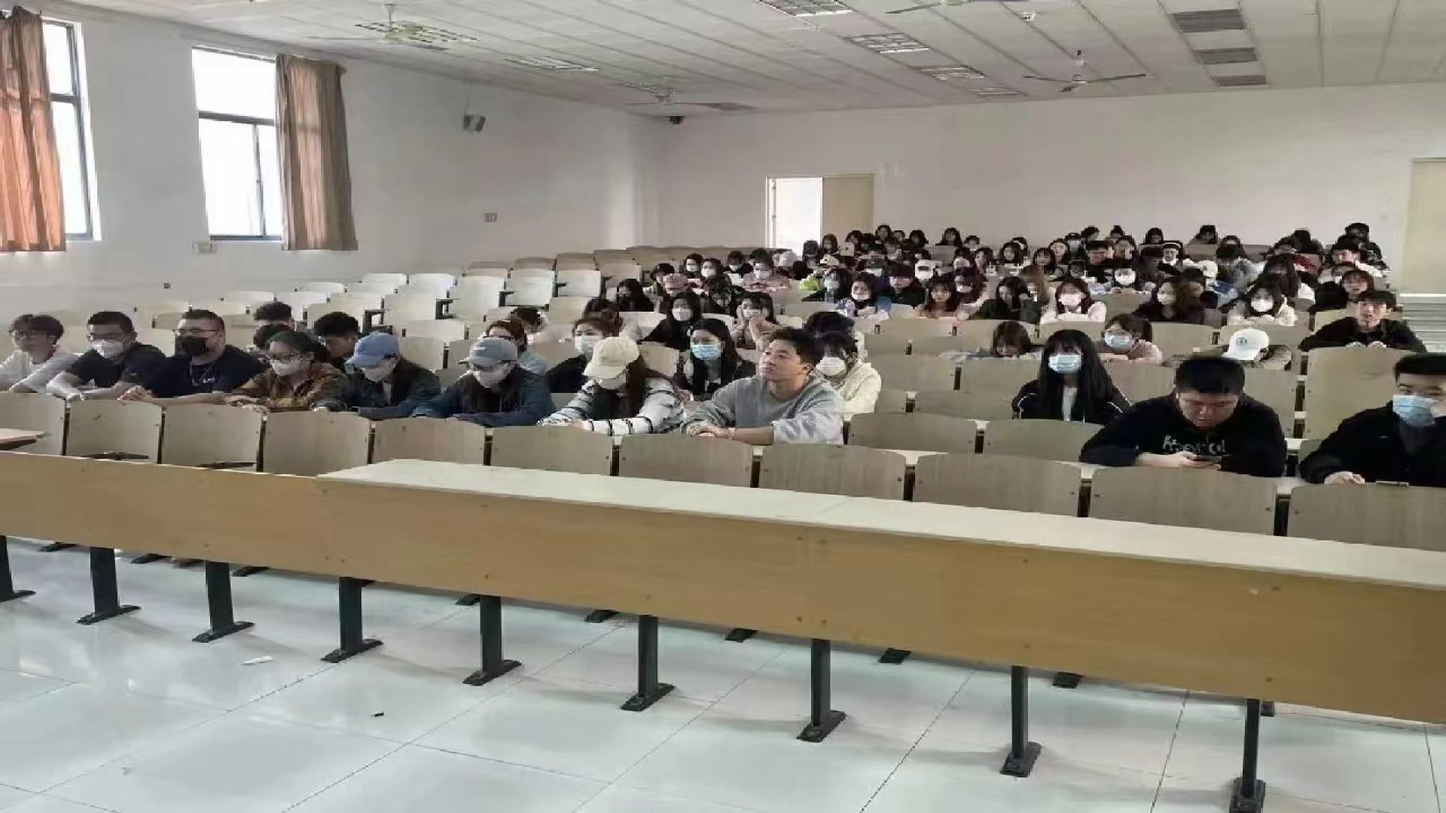Bend Over The Desk: (957, 325, 1039, 369), (1215, 329, 1288, 366), (1219, 288, 1290, 326)
Normal: (737, 329, 831, 452), (431, 340, 528, 422), (347, 328, 418, 420), (248, 333, 331, 410), (74, 308, 142, 399), (171, 317, 236, 400), (0, 309, 56, 382), (1043, 327, 1093, 388), (1093, 317, 1156, 358)
phone: (1360, 457, 1423, 502), (1168, 438, 1235, 478), (534, 399, 596, 438)
